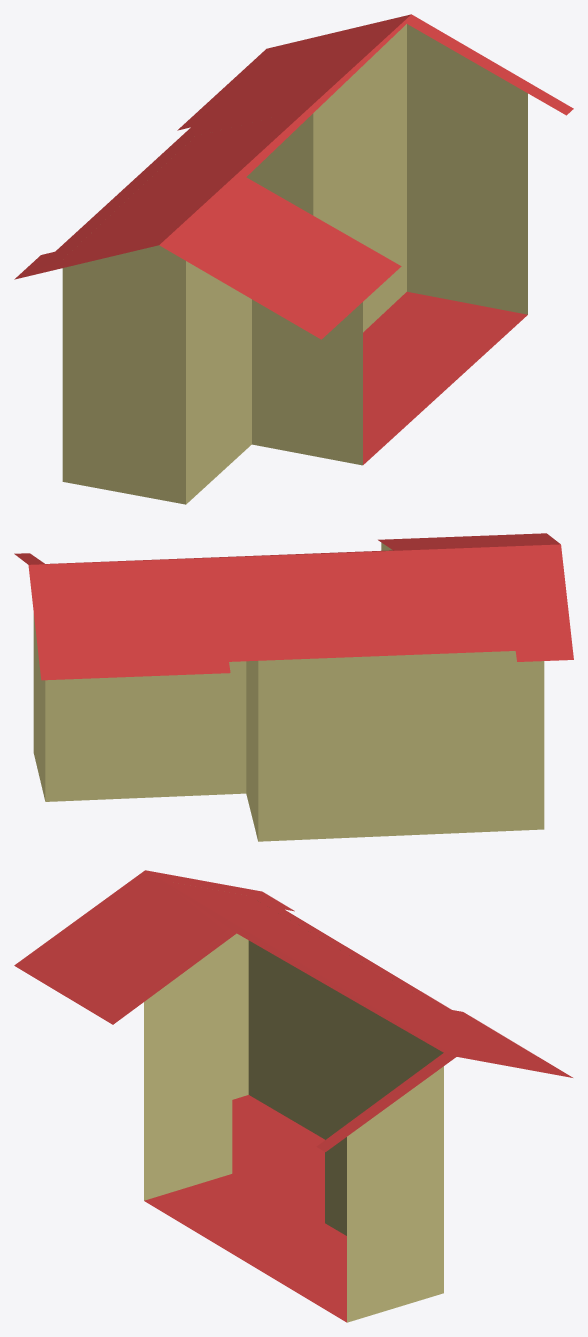
3 views of the same model, one above another, from view 1: azimuth 30°, elevation 25°; view 2: azimuth 150°, elevation 25°; view 3: azimuth 270°, elevation 25° (orthographic). The views are drawn at different scales.
Size of the model in its own units: 16 by 14.52 by 6.92.
